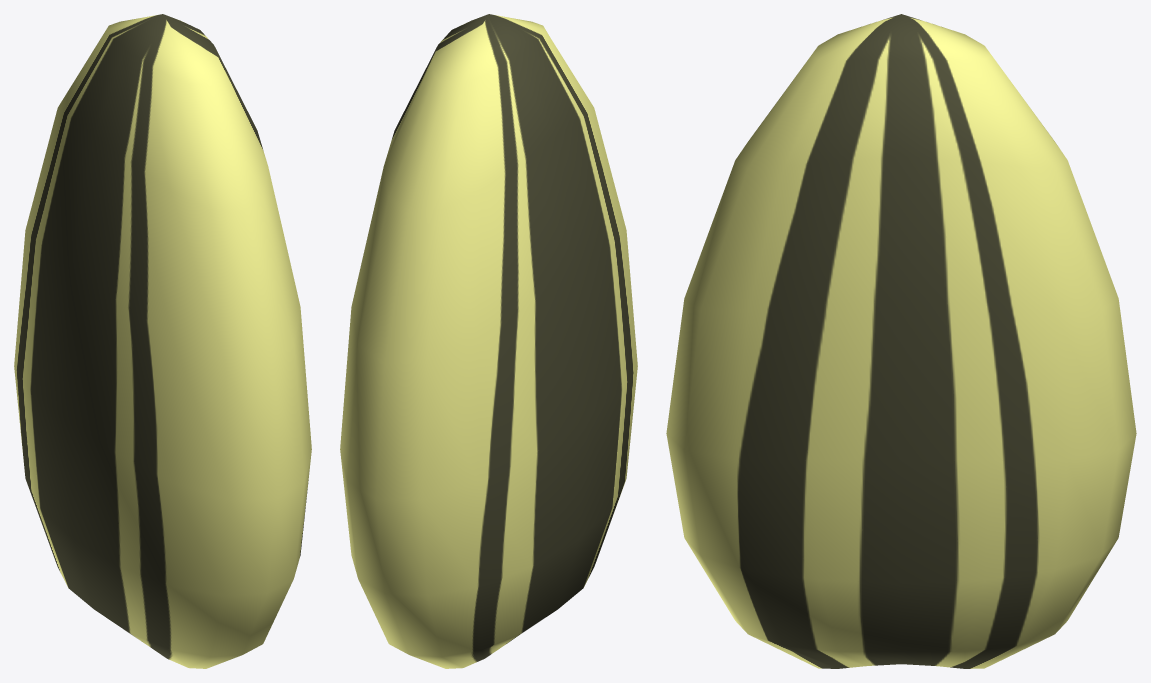
The model's file is Seed.gltf.
3 views of the same model, side by side, from view 1: azimuth 30°, elevation 25°; view 2: azimuth 150°, elevation 25°; view 3: azimuth 270°, elevation 25° (orthographic). The views are drawn at different scales.
Parts seen in each view (by area): view 1: Sphere; view 2: Sphere; view 3: Sphere.
Boxes of the visible parts, <box> form: Sphere: <box>14,14,311,668</box>; Sphere: <box>340,14,637,668</box>; Sphere: <box>666,14,1136,668</box>.
Bounding box in the file's own units: 0.3 × 0.9143 × 0.6.
1 material, 1 textured.
